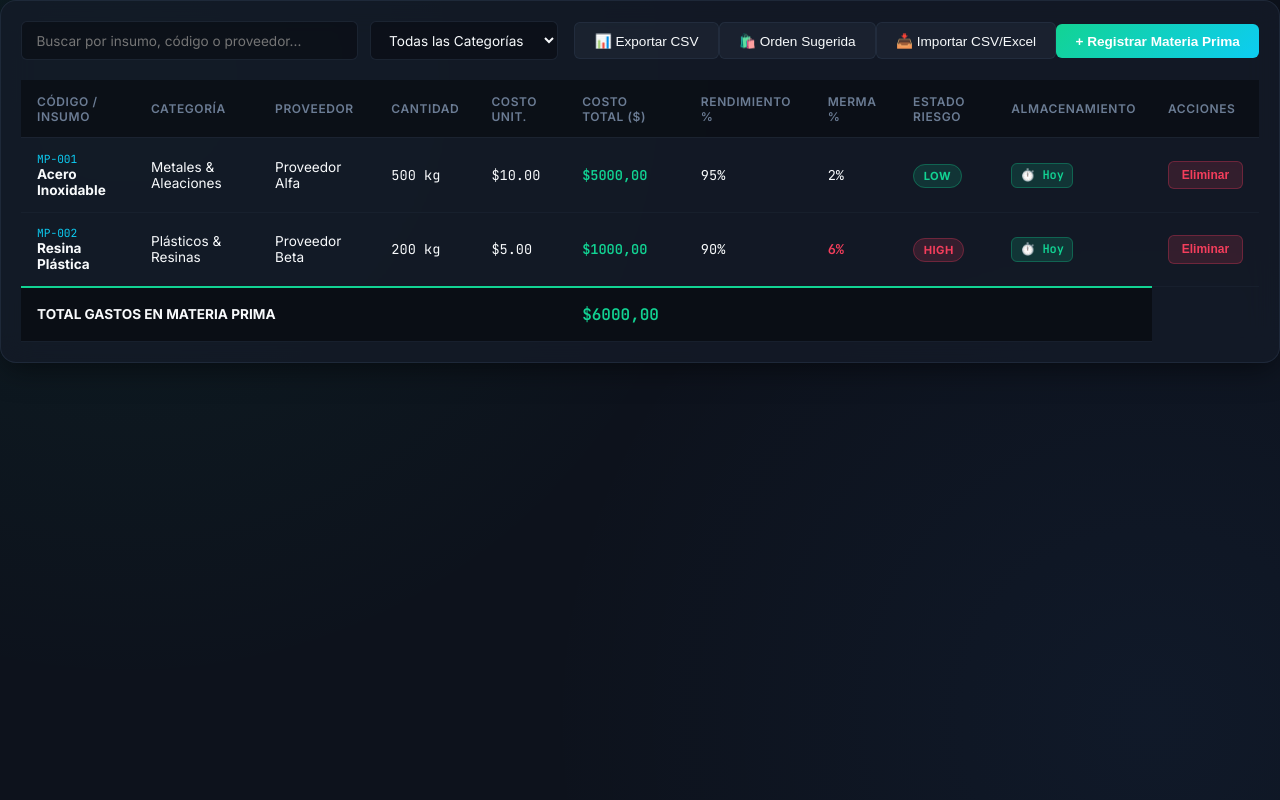
Scenario: MaterialsTable.vue Unit Tests › filters raw materials based on search query input
Step 1. Type "Resina" into the field with class "search-input" → (189, 41), box [21,21,358,60]
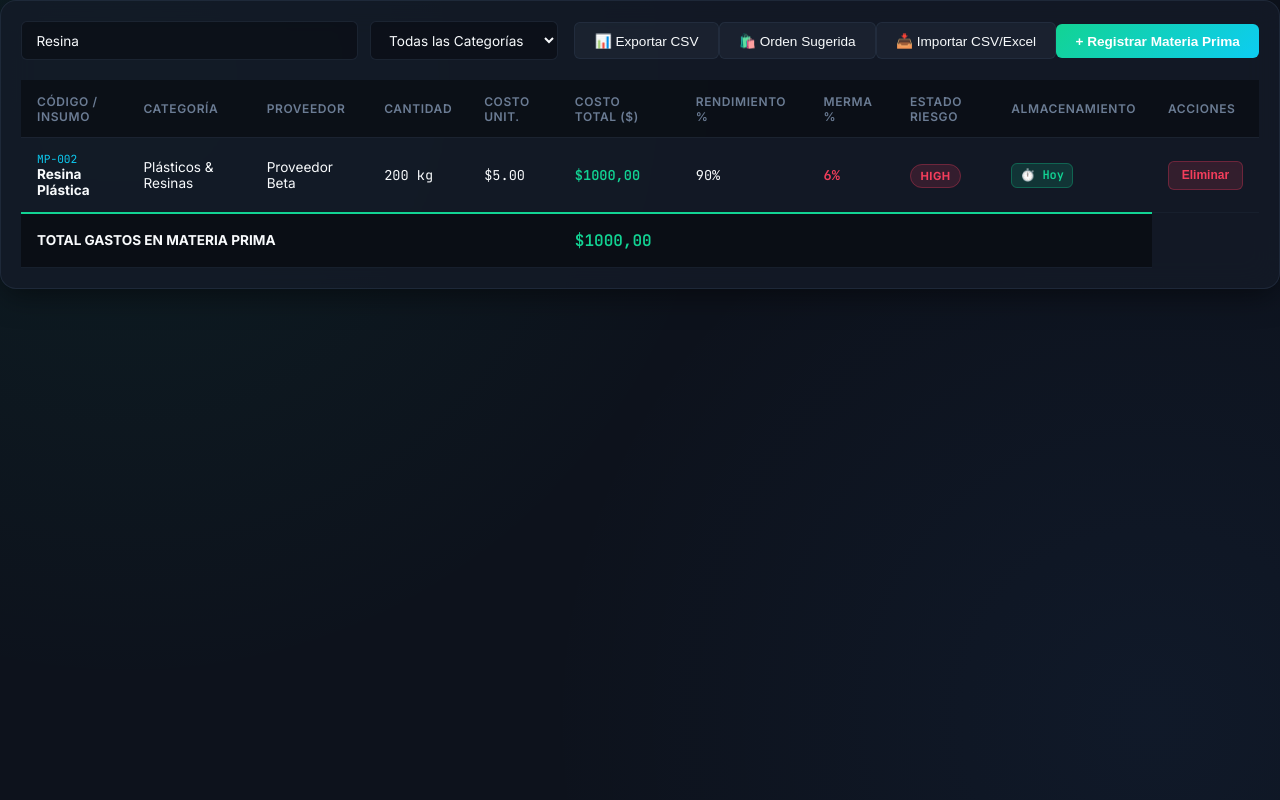
Check: the text "Resina Plástica" is shown, box [37,166,90,198]
Check: the text "Acero Inoxidable" is gone
